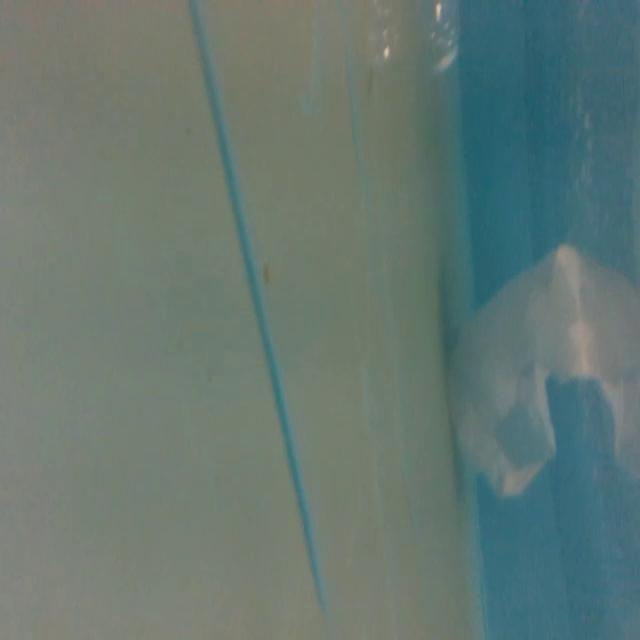plastic bags: (439, 236, 640, 507)
